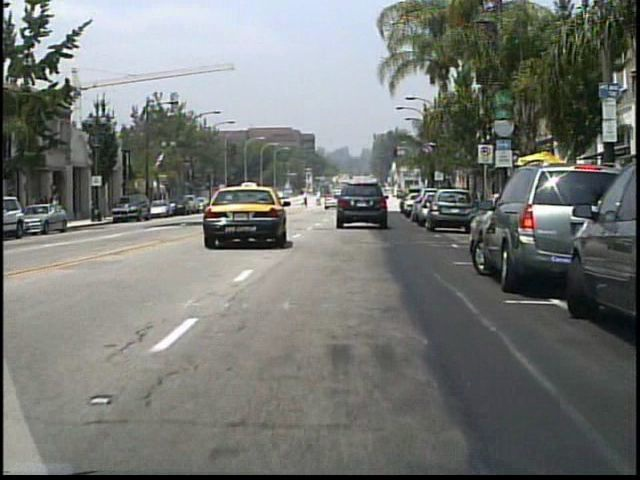person: (52, 193, 64, 224), (317, 190, 326, 209), (301, 191, 309, 209)
